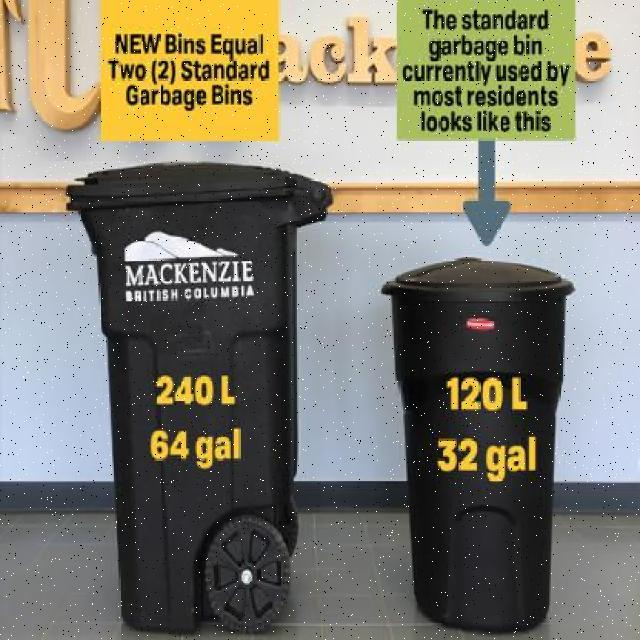garbage container: (62, 161, 343, 640), (374, 247, 603, 640)
